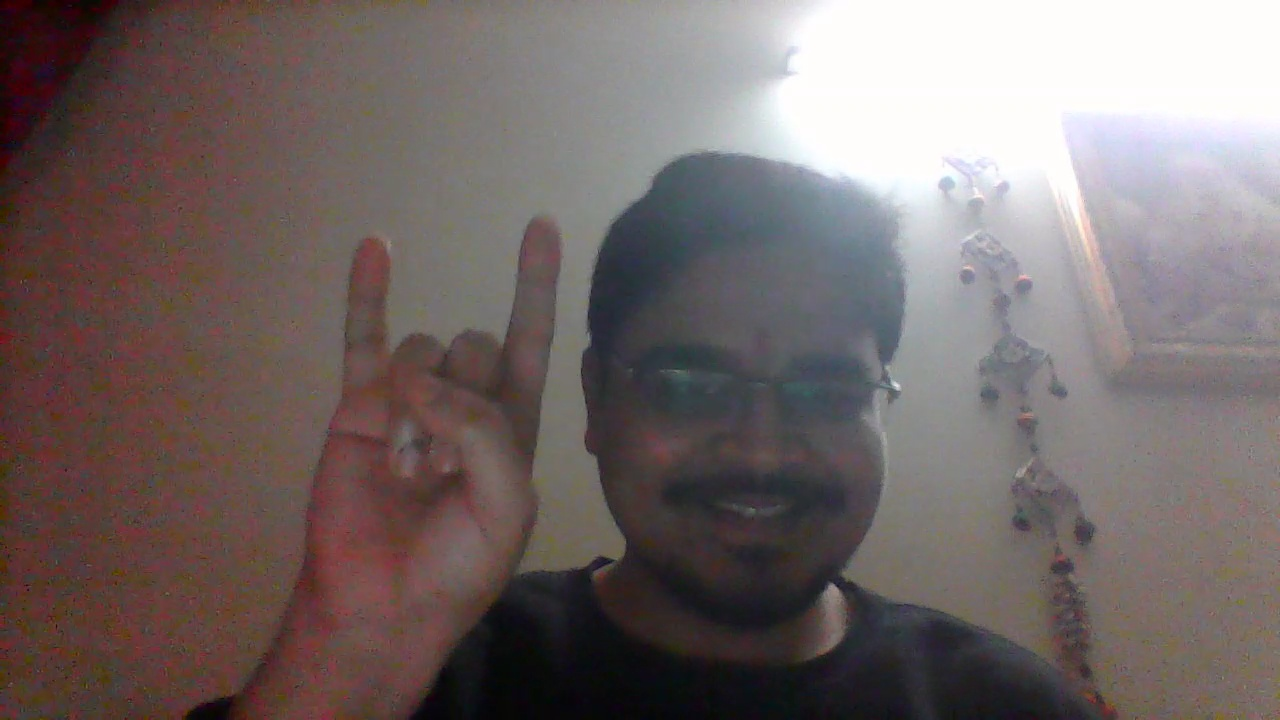ILoveYou: (302, 213, 563, 670)
